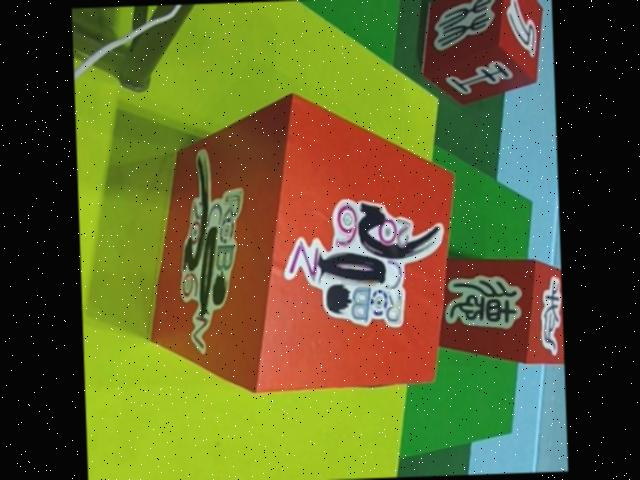R1: (137, 87, 465, 397)
R2 Fake: (433, 254, 565, 365), (418, 0, 546, 105)
